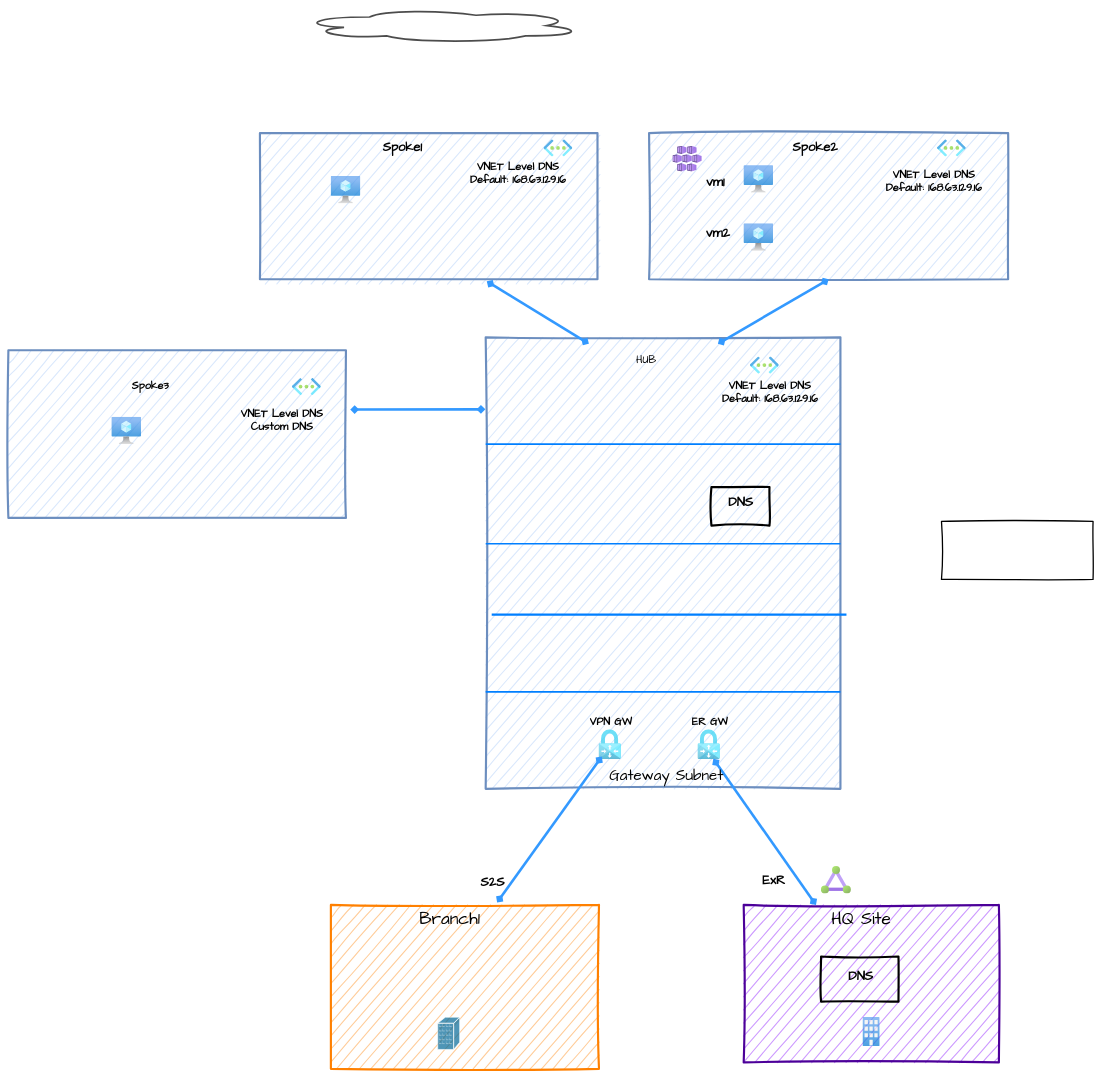
Some shapes in this 1101 by 1077 pixel diagram are drawn without their labels. Each missing label, with the box of its shape:
Azure DNS 168.63.129.16: (941, 521, 1093, 580)
Internet: (298, 7, 583, 43)
